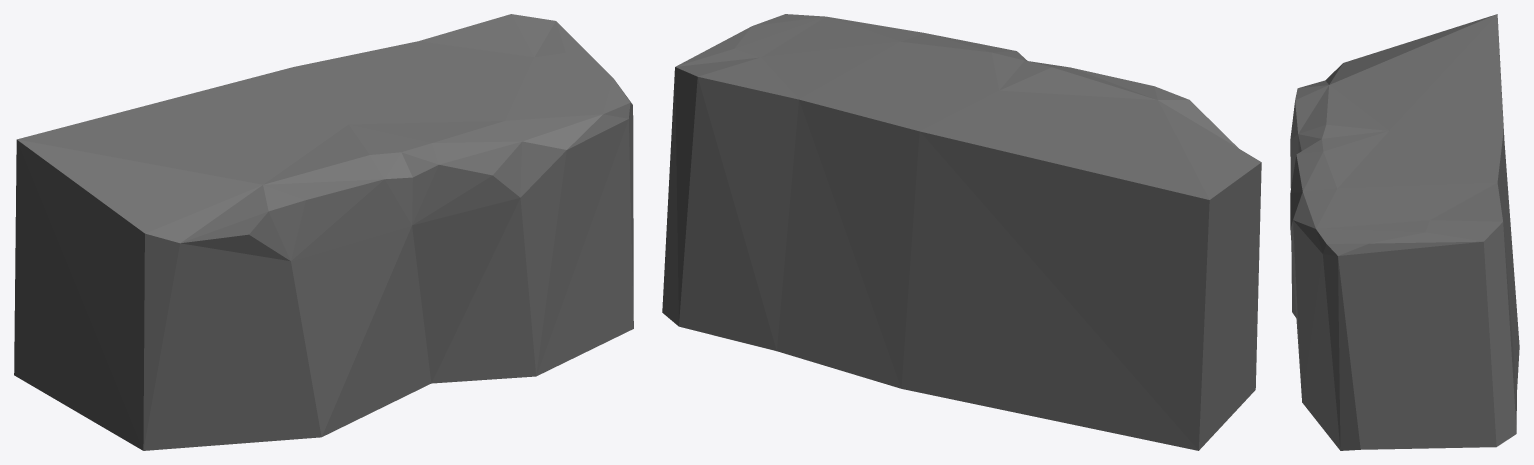
The model's file is rock_016.glb.
3 renders of one model, left to right at view 1: azimuth 30°, elevation 25°; view 2: azimuth 150°, elevation 25°; view 3: azimuth 270°, elevation 25°, orthographic. The views are drawn at different scales.
Visible parts, largest first — view 1: rock_016; view 2: rock_016; view 3: rock_016.
Boxes of the visible parts, box(x1,y1,x2,y2) form: rock_016: box(14, 14, 633, 450); rock_016: box(662, 14, 1261, 450); rock_016: box(1290, 14, 1519, 450).
Size of the model in its own units: 36.62 by 16.98 by 15.75.
1 material, 1 textured.
